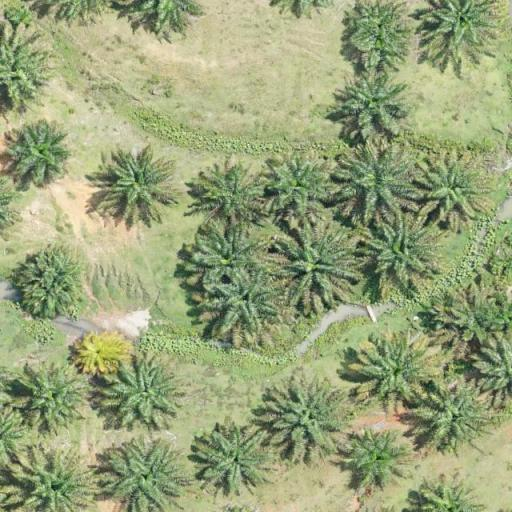Ganoderma: (80, 338, 116, 368)
